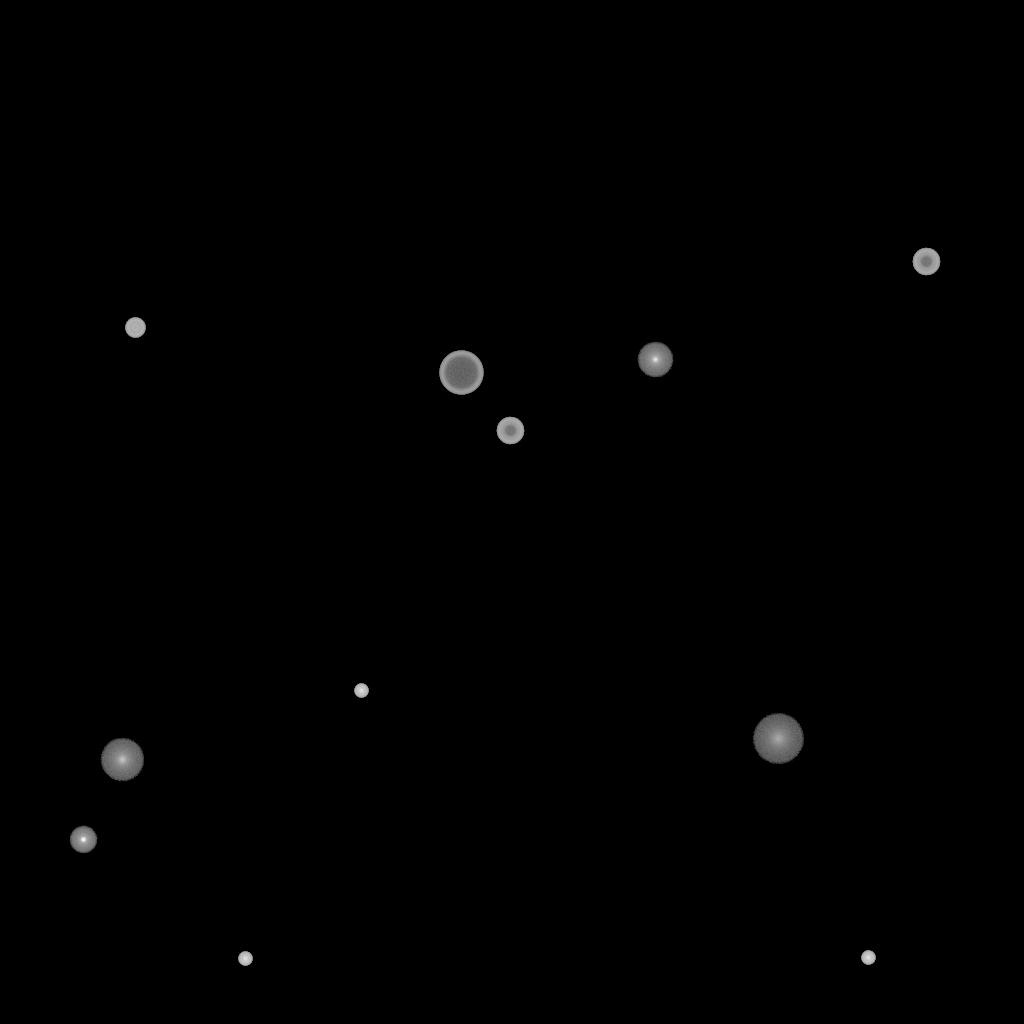depth:-10: (69, 826, 97, 854)
depth:-30: (354, 684, 368, 698), (238, 952, 252, 966), (861, 951, 875, 965)
depth:-40: (125, 318, 145, 338)
depth:-50: (496, 417, 524, 445), (912, 248, 940, 276)
depth:-70: (439, 351, 483, 395)
depth:0: (637, 342, 673, 378)
depth:10: (100, 738, 144, 782)
depth:20: (752, 714, 804, 764)
